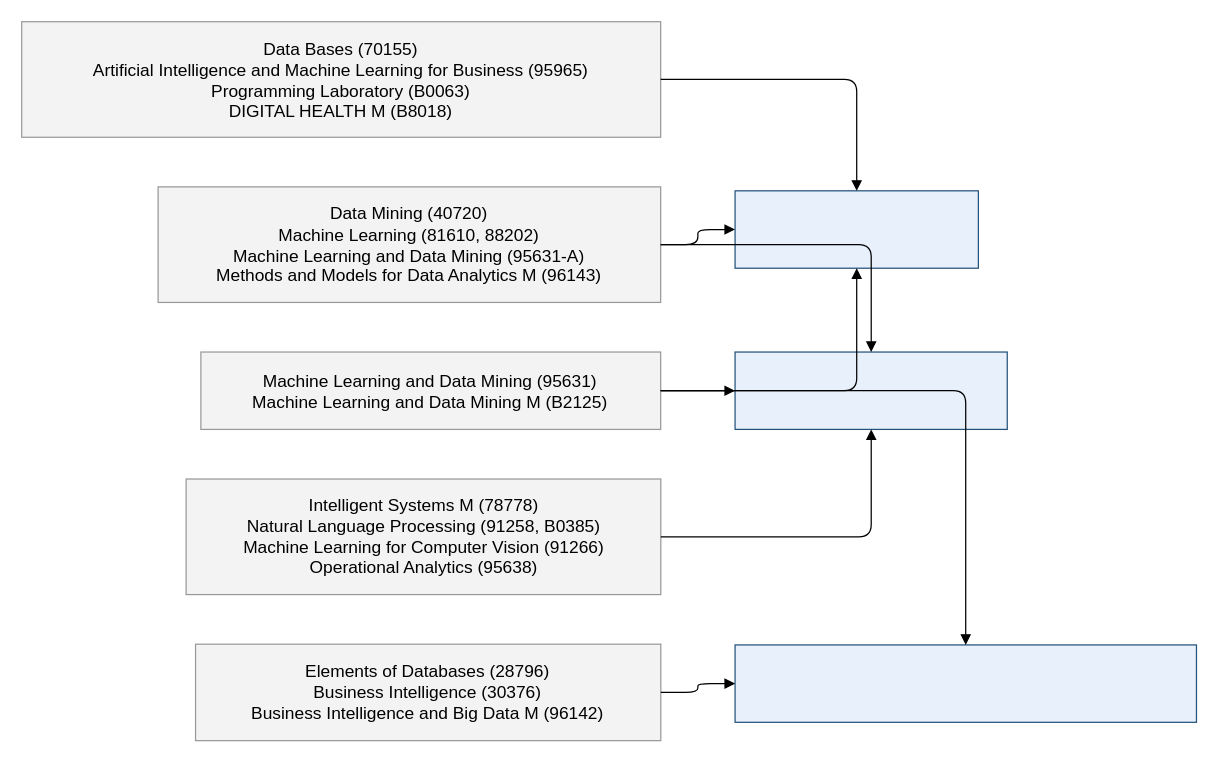
The diagram is 1219 pixels wide and 763 high, and some of its shapes have lost their labels. Here are the shapes that lost their labels. From the top down, the box of each, then its label:
(734, 190, 978, 268): Clustering Methods 2 ECTS
(734, 351, 1007, 429): Classification Methods 2 ECTS
(734, 644, 1196, 722): Data Mining Infrastructure and Warehousing 2 ECTS
